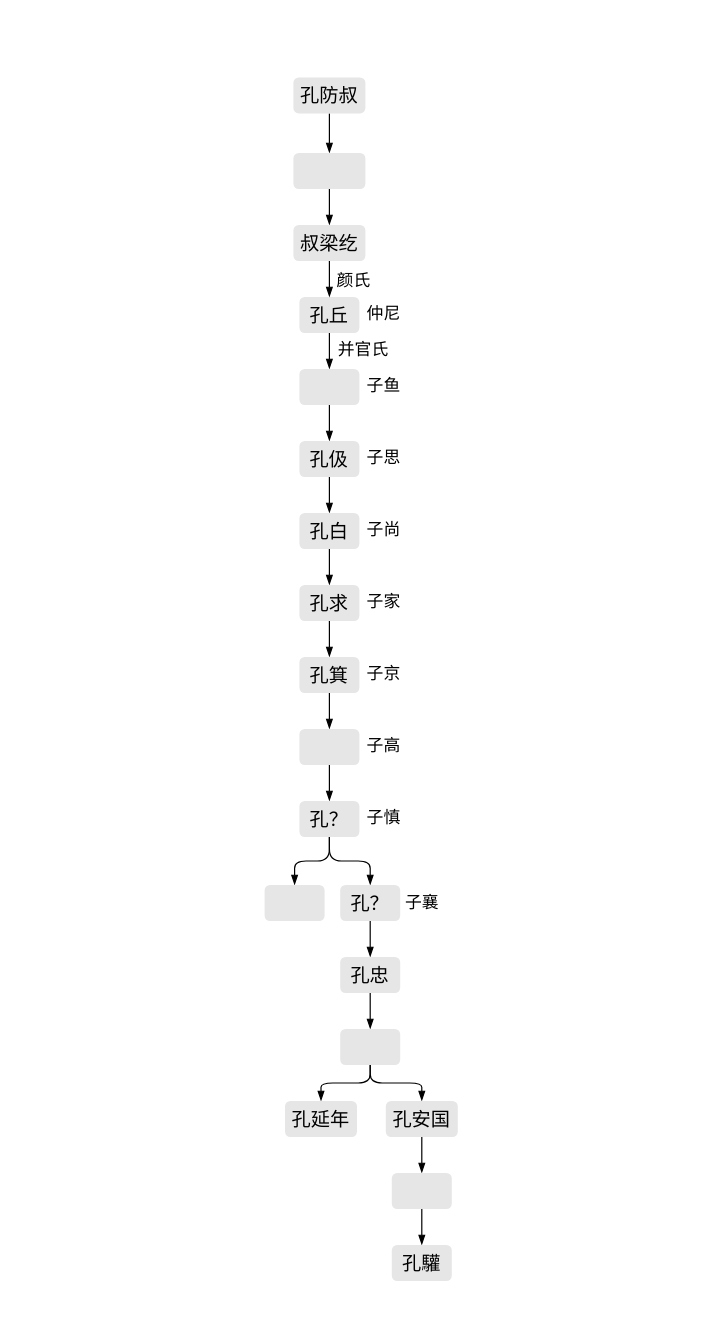
Some shapes in this 701 by 1325 pixel diagram are drawn without their labels. Here are the shapes that lost their labels. From the top down, the centre of each, then its label:
At [329,170]: "孔伯夏".
At [329,386]: "孔鲤".
At [329,746]: "孔穿".
At [294,902]: "孔鲋".
At [370,1046]: "孔武".
At [421,1190]: "孔卬".
